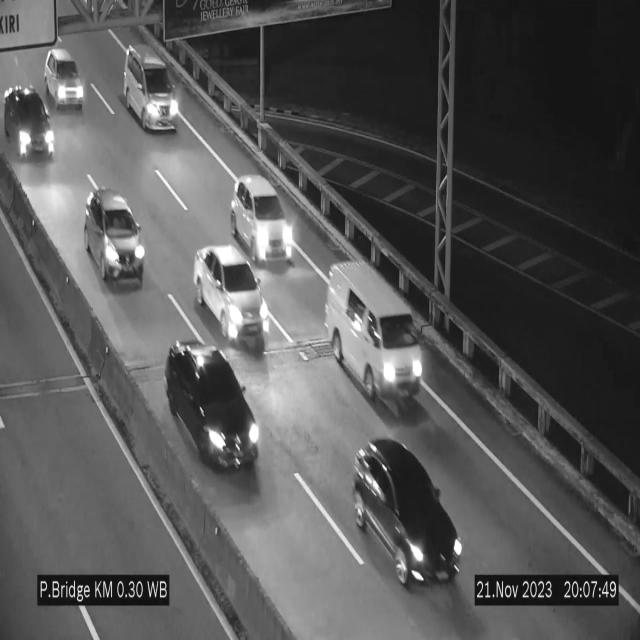Car: (354, 439, 461, 586), (325, 262, 423, 413), (165, 342, 259, 468), (193, 245, 267, 345), (84, 186, 145, 286), (230, 175, 296, 262), (123, 43, 180, 130), (0, 84, 60, 160), (39, 43, 89, 113)
